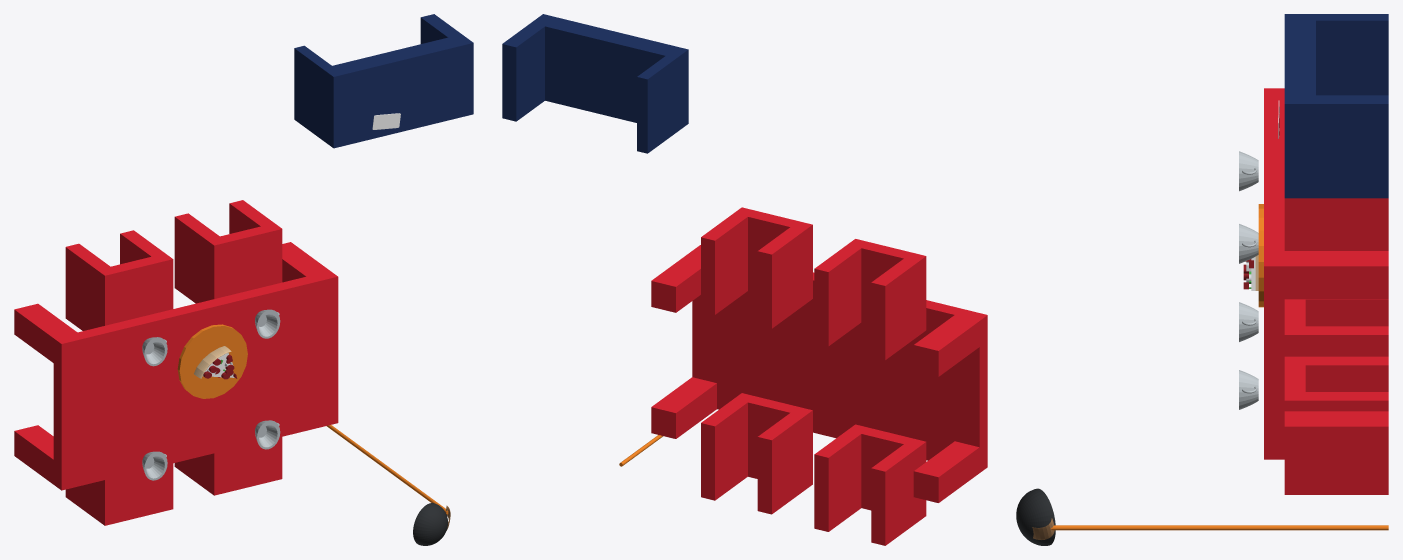
Rendered from tinker.obj.
3 views of the same model, side by side, from view 1: azimuth 30°, elevation 25°; view 2: azimuth 150°, elevation 25°; view 3: azimuth 270°, elevation 25° (orthographic). The views are drawn at different scales.
Parts seen in each view (by area): view 1: group_0_15277357, group_0_1650274, group_0_16089887, group_0_12568524, group_0_2829873, group_0_16448250; view 2: group_0_15277357, group_0_1650274; view 3: group_0_15277357, group_0_1650274, group_0_16089887, group_0_12568524, group_0_2829873.
Boxes of the visible parts, x1,y1,x2,y2 form: group_0_15277357: (14, 200, 338, 525); group_0_1650274: (294, 14, 473, 148); group_0_16089887: (177, 324, 448, 514); group_0_12568524: (142, 309, 280, 480); group_0_2829873: (413, 503, 447, 545); group_0_16448250: (203, 113, 400, 377); group_0_15277357: (651, 207, 987, 545); group_0_1650274: (502, 14, 688, 153); group_0_15277357: (1264, 88, 1388, 494); group_0_1650274: (1284, 14, 1388, 198); group_0_16089887: (1050, 204, 1388, 530); group_0_12568524: (1239, 151, 1258, 409); group_0_2829873: (1016, 107, 1279, 545).
Size of the model in its own units: 123 by 112 by 71.62.
